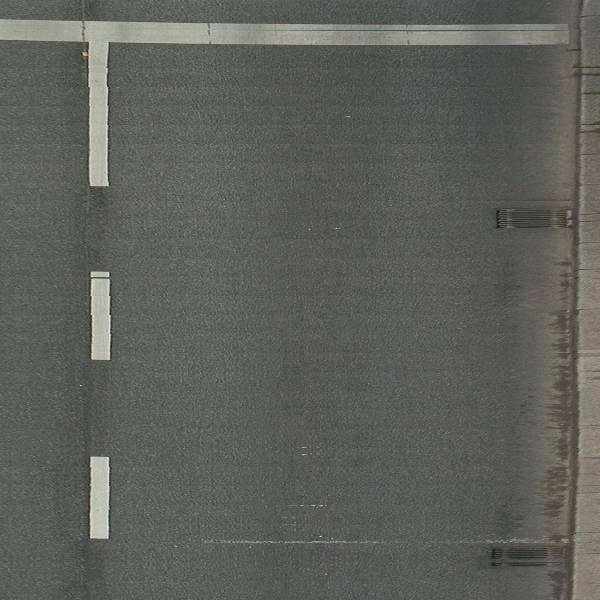road_damage: (197, 534, 491, 546)
